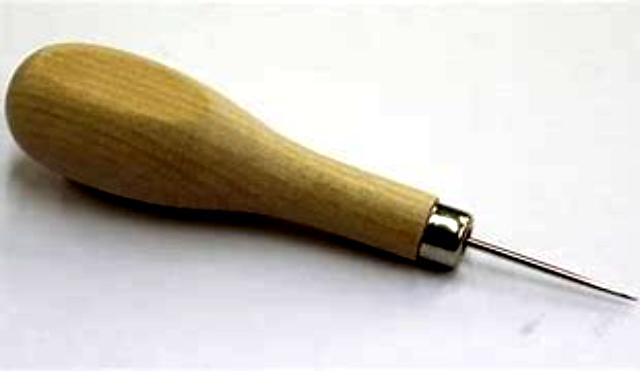ice pick: (8, 45, 640, 305)
